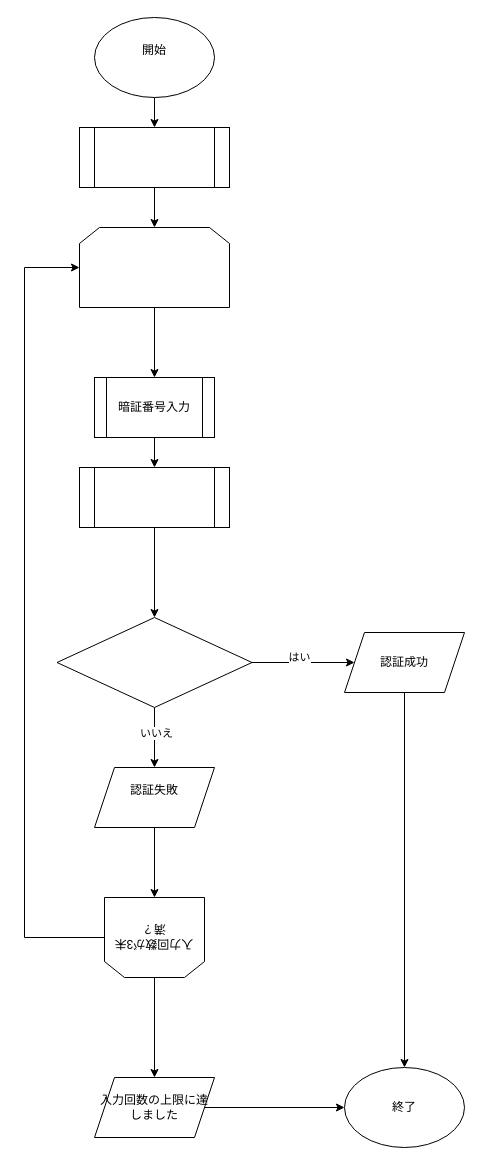
The diagram is 482 pixels wide and 1165 high, and some of its shapes have lost their labels. Here are the shapes that lost their labels. From the top down, the box of each, then its label:
(78, 126, 230, 188): 入力カウント初期化
(78, 226, 230, 308): 入力カウントが3未満の間
(78, 466, 230, 528): 入力カウント1増やす
(56, 616, 252, 708): 正解判定0427と一致
